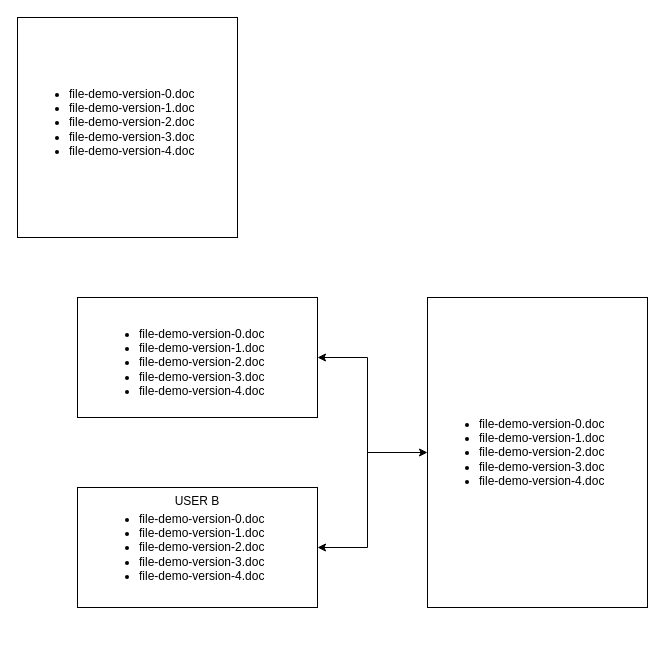
Some shapes in this 665 by 660 pixel diagram are drawn without their labels. The shapes that lost their labels are listed below. From the top down, each one's box as (x1, y1, x2, y2) in pixels, then its label:
(76, 296, 318, 418): USER A
(426, 296, 648, 608): Center Server
